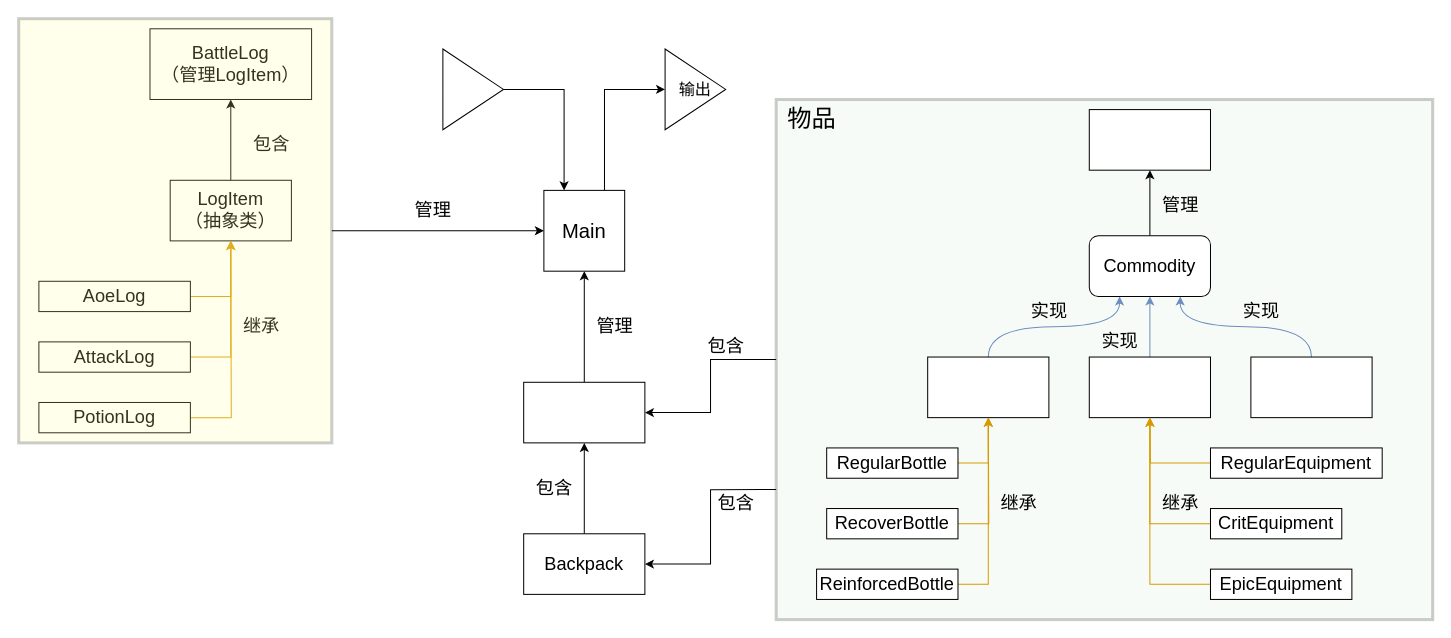
Image size: 1451x638. Some labels were removed from this diagram. Each missing label, with the centre of its shape:
Adventurer: the point at 584,412
Bottle: the point at 988,387
Equipment: the point at 1149,387
Food: the point at 1311,387
Store: the point at 1149,139
记录系统: the point at 175,230
输入: the point at 472,89
